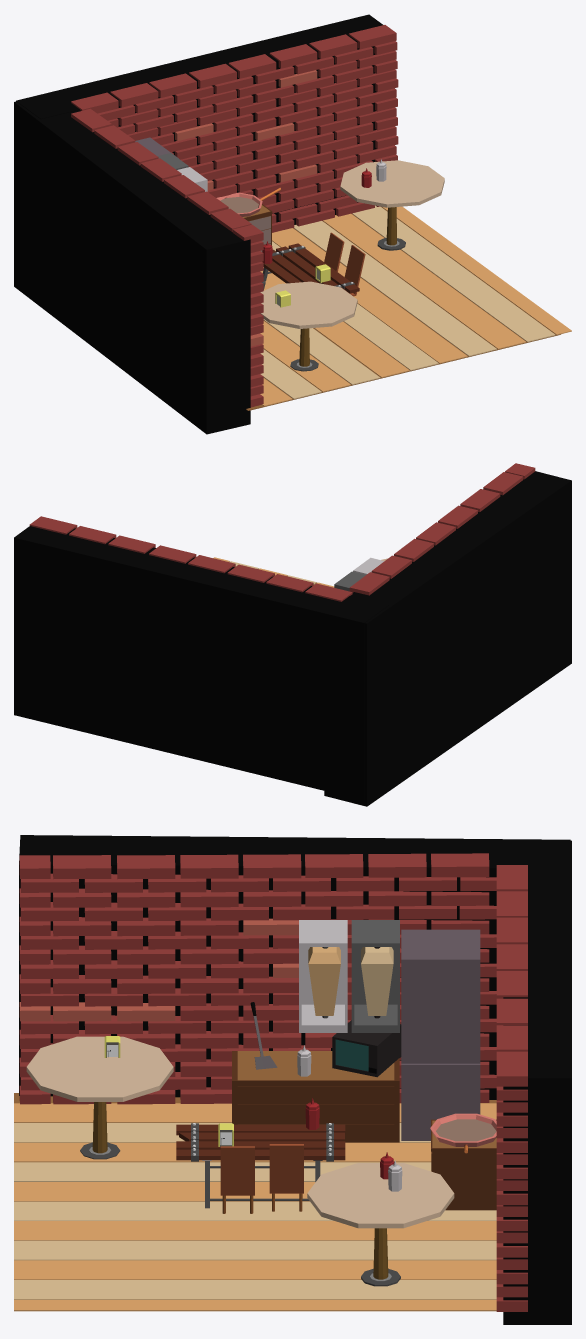
File: Proyecto2Mesa (2).fbx
The picture shows the model from 3 angles, top to bottom: view 1: azimuth 30°, elevation 25°; view 2: azimuth 150°, elevation 25°; view 3: azimuth 270°, elevation 25°; orthographic projection. The views are drawn at different scales.
Parts seen in each view (by area): view 1: Cubo.314, Cubo.313, Cubo.025, Cubo.349, Cubo.026, Cilindro.055, Cilindro.053, Cubo.027, Cubo.350, Cubo.024, Cubo.023, Cubo (+22 smaller); view 2: Cubo.313, Cubo.314, Cubo.353, Cubo.352, Cubo.357, Cubo.354, Cubo.355, Cubo.356, Cubo.358, Cubo.195, Cubo.196, Cubo.189 (+5 smaller); view 3: Cubo.313, Cubo.034, Cubo.314, Cubo.033, Cubo.026, Cubo.349, Cubo.025, Cubo.027, Cilindro.053, Cilindro.055, Cubo.024, Cubo.350 (+94 smaller).
Boxes of the visible parts, left/top/right/bottom form: Cubo.314: left=14, top=101, right=250, bottom=434; Cubo.313: left=16, top=14, right=382, bottom=224; Cubo.025: left=323, top=213, right=526, bottom=349; Cubo.349: left=352, top=205, right=555, bottom=342; Cubo.026: left=294, top=221, right=496, bottom=356; Cilindro.055: left=340, top=160, right=444, bottom=250; Cilindro.053: left=260, top=281, right=357, bottom=371; Cubo.027: left=272, top=228, right=467, bottom=363; Cubo.350: left=381, top=206, right=571, bottom=334; Cubo.024: left=272, top=241, right=438, bottom=370; Cubo.023: left=260, top=267, right=409, bottom=377; Cubo: left=263, top=319, right=380, bottom=384; Cubo.313: left=14, top=526, right=388, bottom=800; Cubo.314: left=324, top=471, right=571, bottom=806; Cubo.353: left=349, top=572, right=389, bottom=595; Cubo.352: left=483, top=472, right=523, bottom=495; Cubo.357: left=460, top=489, right=500, bottom=511; Cubo.354: left=394, top=538, right=433, bottom=561; Cubo.355: left=371, top=555, right=411, bottom=578; Cubo.356: left=438, top=505, right=477, bottom=528; Cubo.358: left=416, top=522, right=455, bottom=545; Cubo.195: left=29, top=516, right=77, bottom=534; Cubo.196: left=108, top=535, right=155, bottom=553; Cubo.189: left=266, top=574, right=313, bottom=592; Cubo.313: left=503, top=840, right=571, bottom=1324; Cubo.034: left=401, top=929, right=480, bottom=1140; Cubo.314: left=19, top=835, right=570, bottom=1099; Cubo.033: left=232, top=1051, right=399, bottom=1142; Cubo.026: left=14, top=1240, right=496, bottom=1260; Cubo.349: left=14, top=1280, right=496, bottom=1299; Cubo.025: left=14, top=1260, right=496, bottom=1279; Cubo.027: left=14, top=1221, right=496, bottom=1240; Cilindro.053: left=26, top=1036, right=173, bottom=1159; Cilindro.055: left=307, top=1163, right=454, bottom=1286; Cubo.024: left=14, top=1201, right=496, bottom=1220; Cubo.350: left=14, top=1299, right=496, bottom=1311.
Bounding box in the file's own units: 1675 × 826 × 1612.
